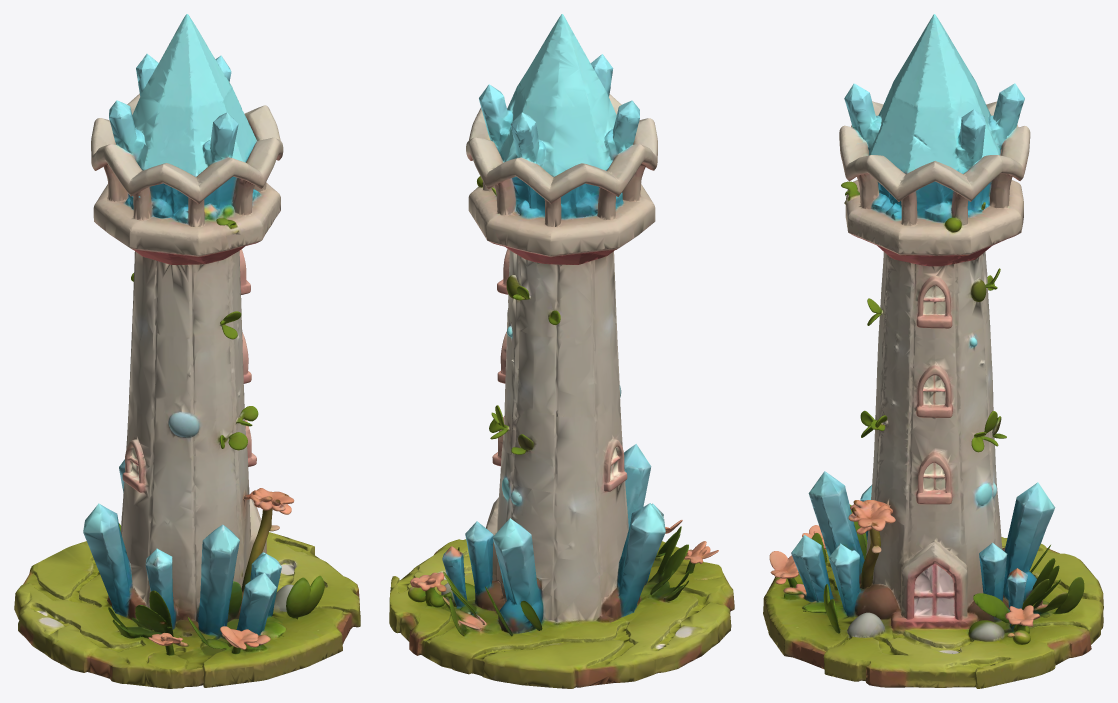
Rendered from struct_tower.glb.
3 renders of one model, left to right at view 1: azimuth 30°, elevation 25°; view 2: azimuth 150°, elevation 25°; view 3: azimuth 270°, elevation 25°, orthographic.
Parts seen in each view (by area): view 1: tripo_node_7814883c-b749-42bc-9e93-e17470dcd072; view 2: tripo_node_7814883c-b749-42bc-9e93-e17470dcd072; view 3: tripo_node_7814883c-b749-42bc-9e93-e17470dcd072.
Part boxes in pixels (x1,y1,x2,y2): tripo_node_7814883c-b749-42bc-9e93-e17470dcd072: (14, 14, 360, 688); tripo_node_7814883c-b749-42bc-9e93-e17470dcd072: (389, 14, 734, 688); tripo_node_7814883c-b749-42bc-9e93-e17470dcd072: (763, 14, 1103, 688).
Size of the model in its own units: 0.48 by 0.932 by 0.4776.
1 material, 1 textured.
